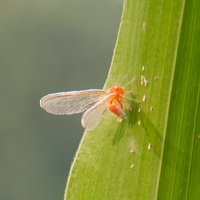insect: (40, 77, 139, 129)
